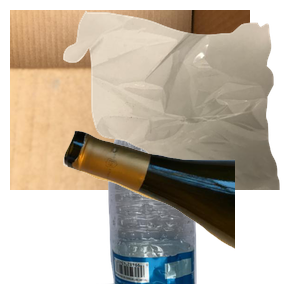cardboard: (10, 10, 250, 190)
glass: (60, 128, 300, 300)
plastic: (96, 120, 285, 300)
trash: (61, 10, 300, 190)
